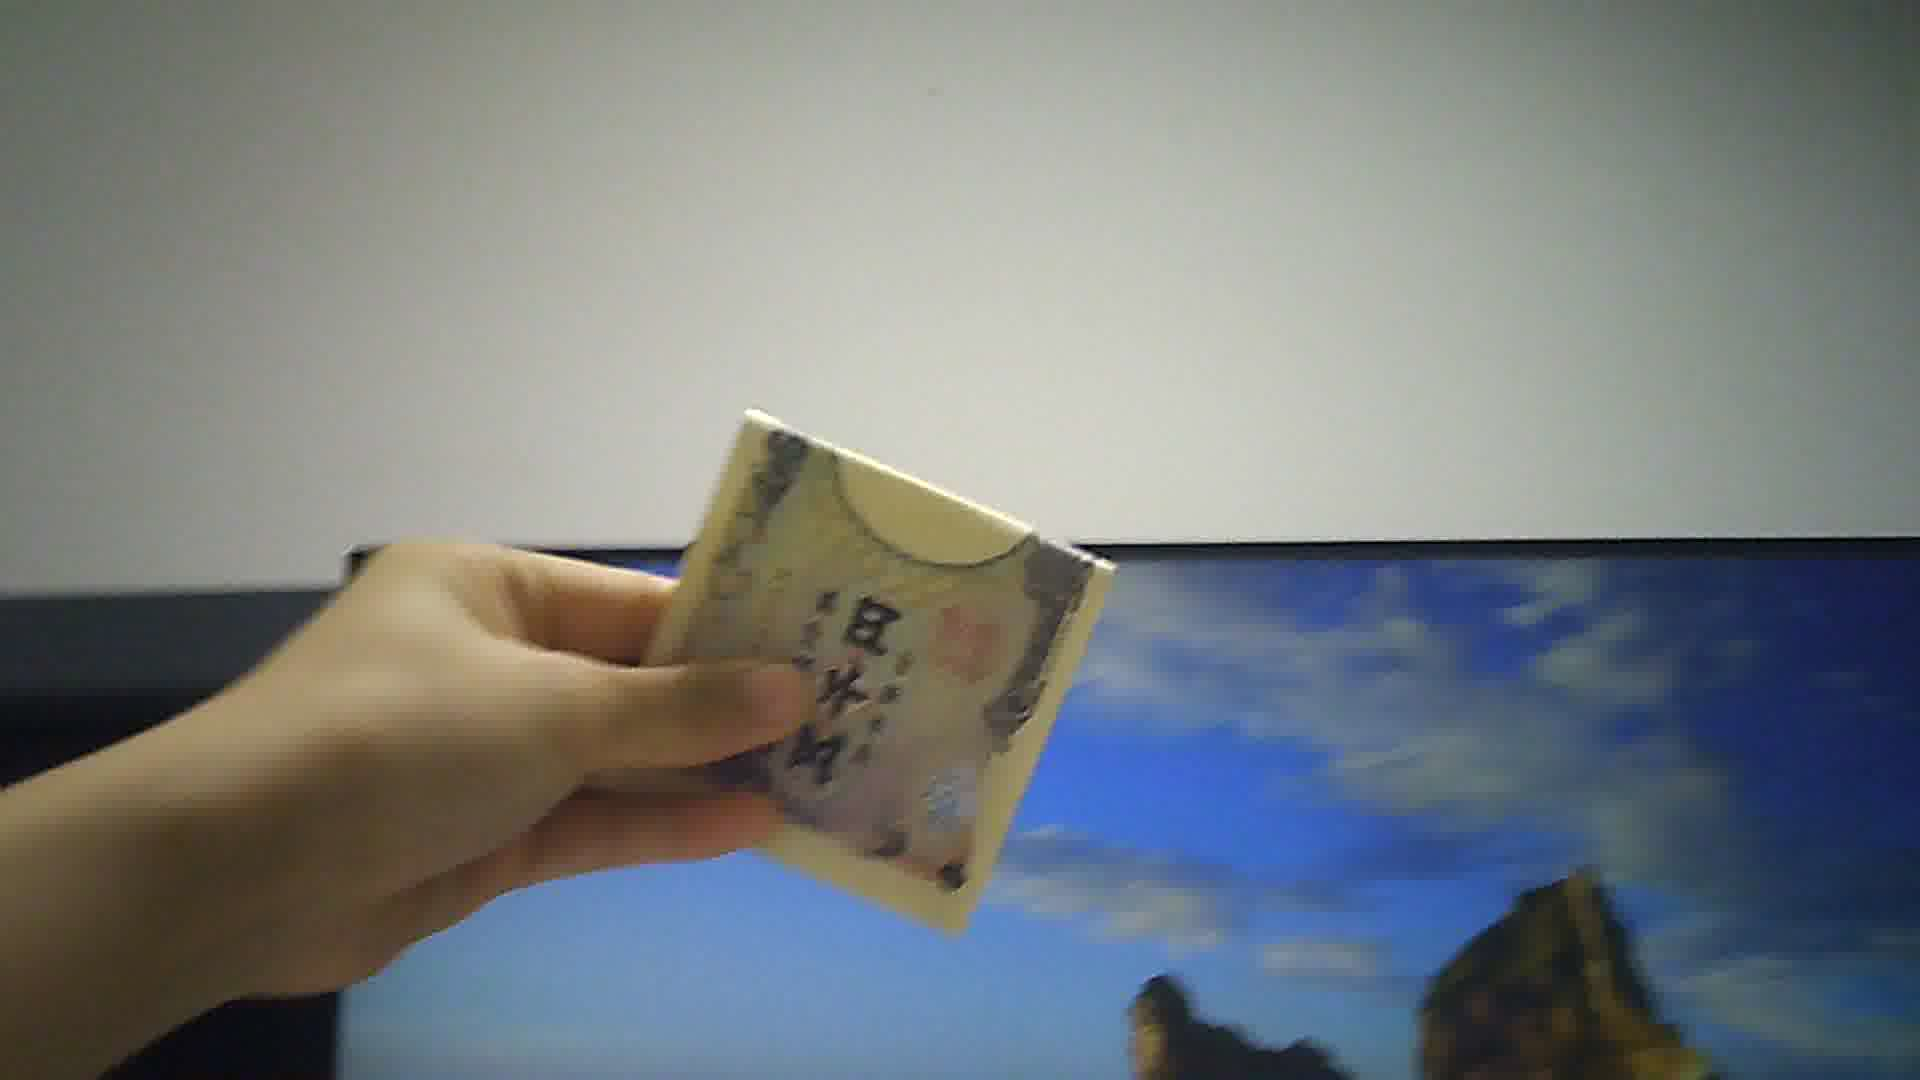5,000 Yen: (578, 376, 1126, 949)
